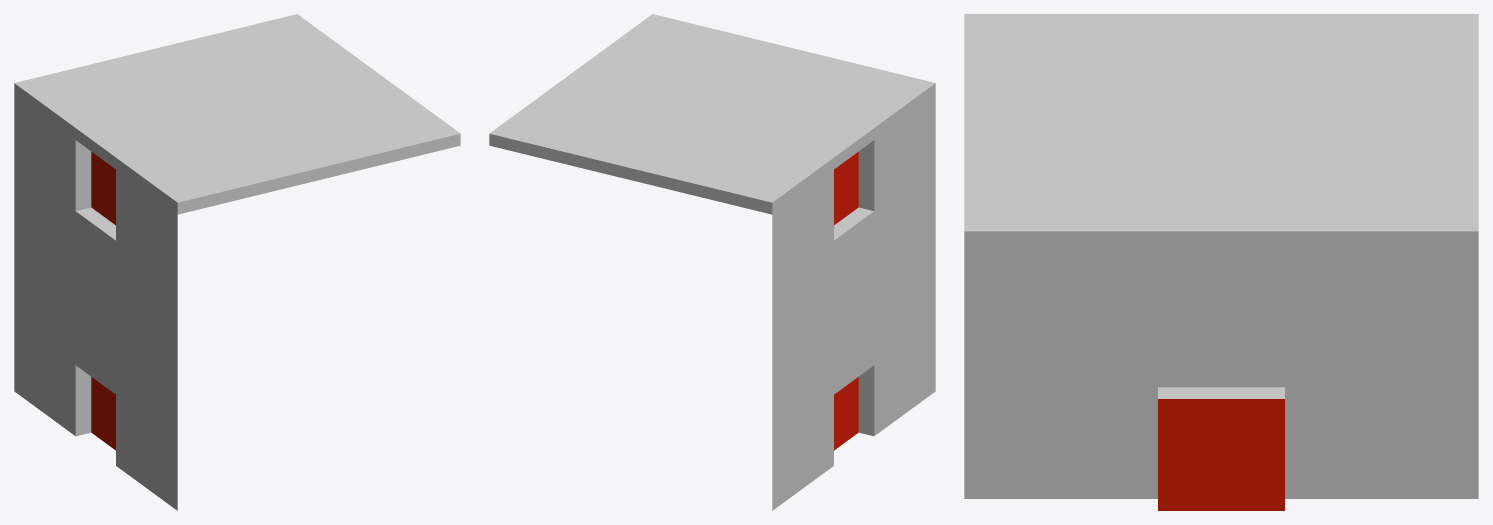
The model's file is towers.fbx.
3 renders of one model, left to right at view 1: azimuth 30°, elevation 25°; view 2: azimuth 150°, elevation 25°; view 3: azimuth 270°, elevation 25°, orthographic. The views are drawn at different scales.
Visible parts, largest first — view 1: tower_cap, tower_wall; view 2: tower_cap, tower_wall; view 3: tower_wall, tower_cap.
Boxes of the visible parts, box(x1,y1,x2,y2) form: tower_cap: box(14, 14, 460, 214); tower_wall: box(14, 95, 177, 510); tower_cap: box(489, 14, 935, 214); tower_wall: box(772, 95, 935, 510); tower_wall: box(964, 250, 1478, 510); tower_cap: box(964, 14, 1478, 250).
Bounding box in the file's own units: 400 × 416 × 400.
